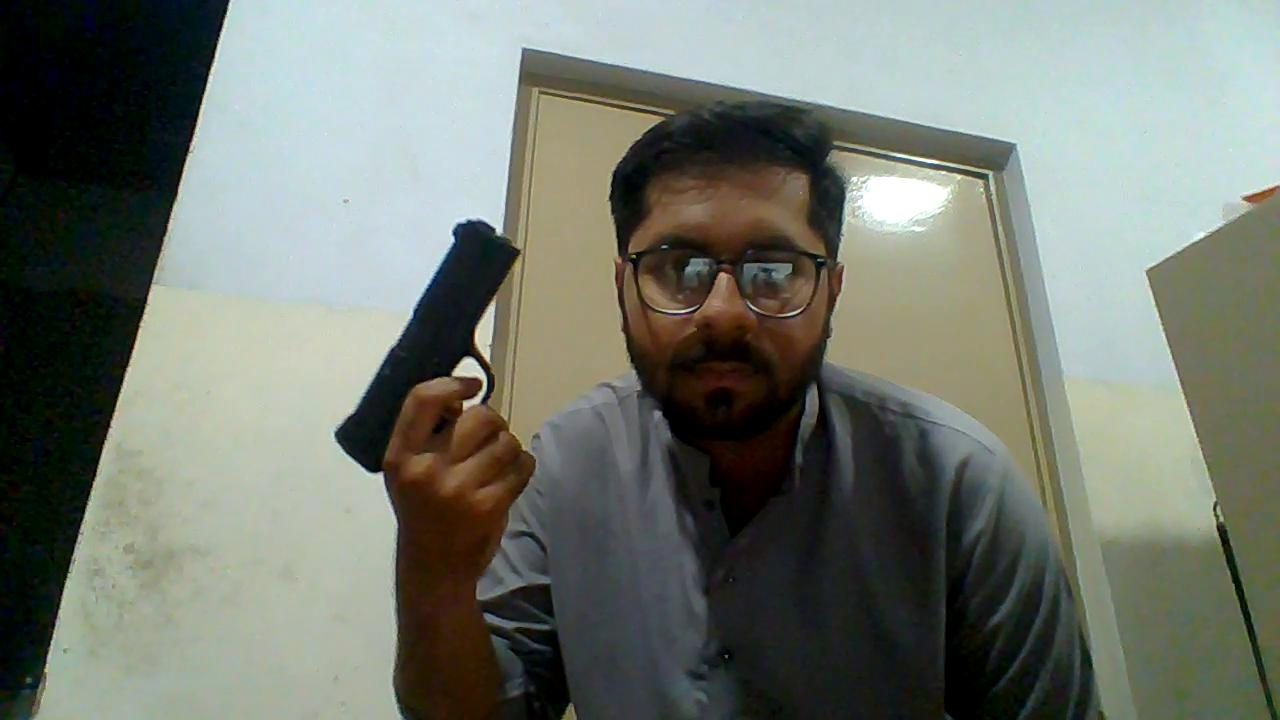criminal: (332, 100, 1102, 720)
weapon: (334, 214, 524, 475)
